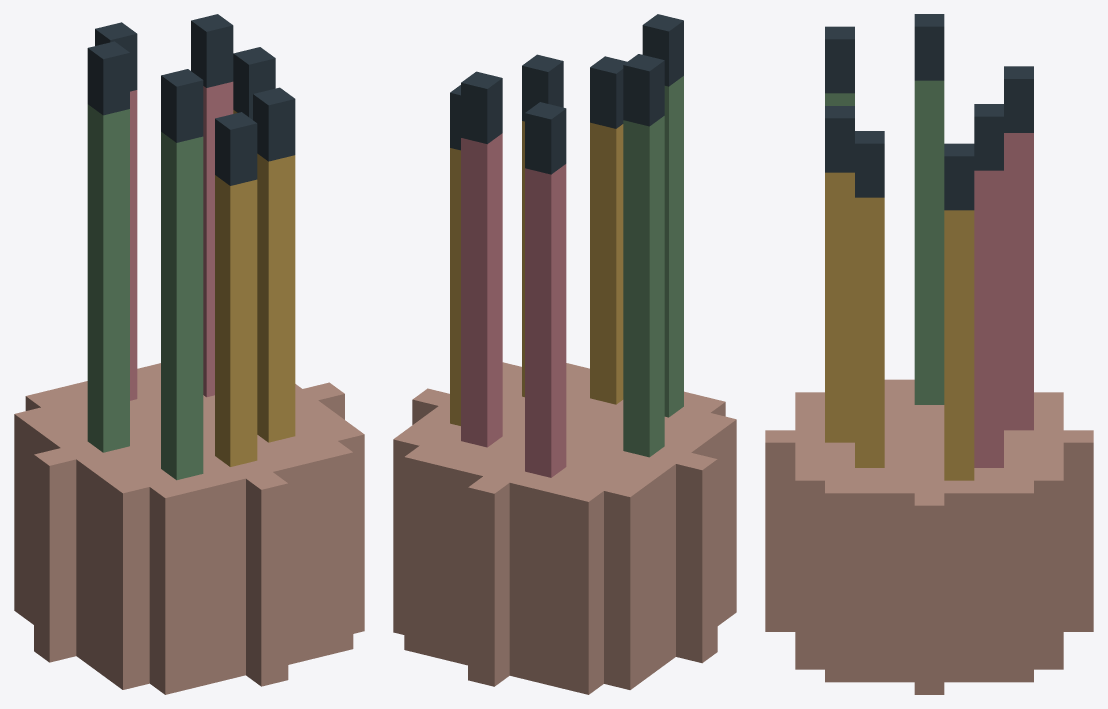
File: art-14.glb
3 renders of one model, left to right at view 1: azimuth 30°, elevation 25°; view 2: azimuth 150°, elevation 25°; view 3: azimuth 270°, elevation 25°, orthographic. The views are drawn at different scales.
Parts seen in each view (by area): view 1: Sketch pencils; view 2: Sketch pencils; view 3: Sketch pencils.
Part boxes in pixels (left/top/right/bottom): Sketch pencils: left=14, top=14, right=364, bottom=694; Sketch pencils: left=393, top=14, right=736, bottom=694; Sketch pencils: left=765, top=14, right=1093, bottom=694.
Size of the model in its own units: 0.88 by 1.68 by 0.88.
